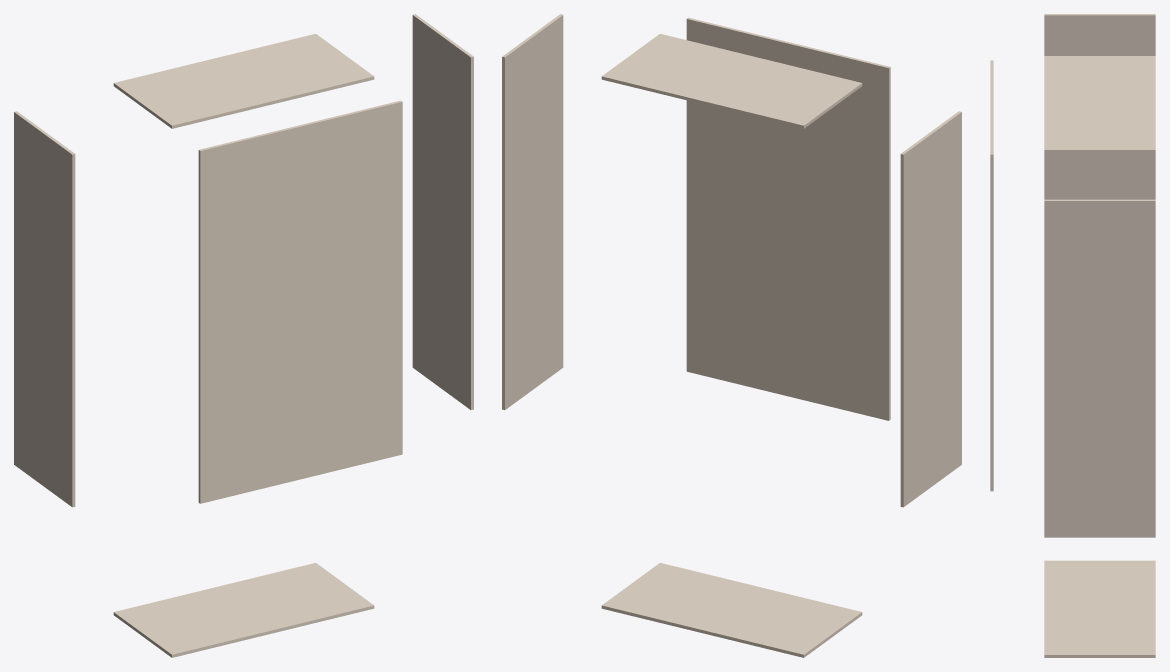
Rendered from basebody.glb.
The picture shows the model from 3 angles, left to right: view 1: azimuth 30°, elevation 25°; view 2: azimuth 150°, elevation 25°; view 3: azimuth 270°, elevation 25°; orthographic projection. The views are drawn at different scales.
Parts seen in each view (by area): view 1: BackPanel, RightSide, LeftSide, TopPanel, BottomPanel; view 2: BackPanel, RightSide, LeftSide, TopPanel, BottomPanel; view 3: RightSide, TopPanel, BottomPanel, LeftSide, BackPanel.
Part boxes in pixels (x1,y1,x2,y2): BackPanel: (198,100,402,503); RightSide: (412,14,473,409); LeftSide: (14,111,75,507); TopPanel: (113,33,374,128); BottomPanel: (113,563,374,657); BackPanel: (686,17,890,420); RightSide: (502,14,563,409); LeftSide: (900,111,961,507); TopPanel: (601,33,862,128); BottomPanel: (601,563,862,657); RightSide: (1044,199,1155,537); TopPanel: (1044,56,1155,153); BottomPanel: (1044,560,1155,657); LeftSide: (1044,14,1155,199); BackPanel: (990,60,993,491).
Size of the model in its own units: 1.19 by 1.51 by 0.4455.
